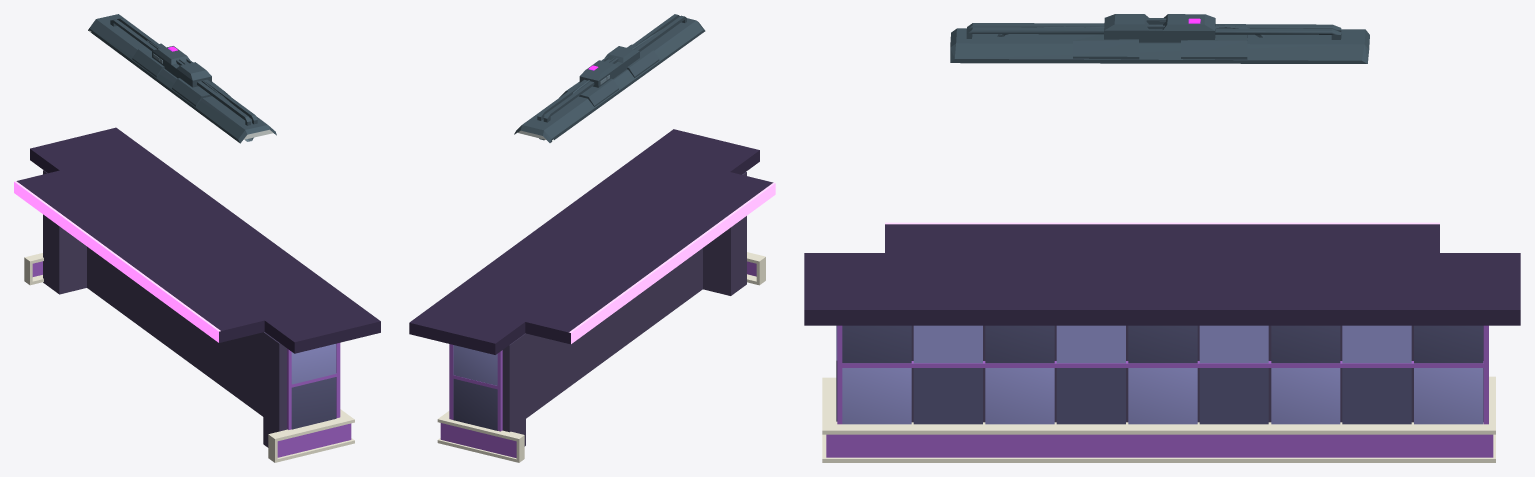
The model's file is Bar.glb.
The picture shows the model from 3 angles, left to right: view 1: azimuth 30°, elevation 25°; view 2: azimuth 150°, elevation 25°; view 3: azimuth 270°, elevation 25°; orthographic projection. The views are drawn at different scales.
Visible parts, largest first — view 1: Bar, BarWall, BarLight, Cube.010, warningFloorSign, Plane.018, Cube.018, Cube.005; view 2: Bar, BarWall, BarLight, Cube.011, warningFloorSign, Plane.018, Cube.021, Cube.005; view 3: Bar, Cube.002, BarLight, Plane.018, Cube.006, Cube.012, warningFloorSign, Cube.017, Cube.005, BarWall.
Boxes of the visible parts, bbox=[...] form: Bar: bbox=[14, 127, 380, 353]; BarWall: bbox=[43, 170, 287, 447]; BarLight: bbox=[88, 14, 276, 143]; Cube.010: bbox=[291, 377, 336, 429]; warningFloorSign: bbox=[24, 253, 354, 462]; Plane.018: bbox=[32, 261, 351, 457]; Cube.018: bbox=[291, 344, 336, 384]; Cube.005: bbox=[287, 343, 340, 429]; Bar: bbox=[409, 129, 775, 354]; BarWall: bbox=[502, 172, 746, 446]; BarLight: bbox=[514, 14, 705, 142]; Cube.011: bbox=[453, 378, 497, 430]; warningFloorSign: bbox=[437, 252, 765, 462]; Plane.018: bbox=[440, 261, 756, 458]; Cube.021: bbox=[453, 345, 497, 385]; Cube.005: bbox=[449, 344, 502, 431]; Bar: bbox=[804, 222, 1520, 325]; Cube.002: bbox=[842, 368, 1483, 424]; BarLight: bbox=[950, 14, 1369, 63]; Plane.018: bbox=[826, 434, 1493, 457]; Cube.006: bbox=[913, 368, 1411, 424]; Cube.012: bbox=[842, 325, 1483, 363]; warningFloorSign: bbox=[822, 376, 1495, 462]; Cube.017: bbox=[913, 325, 1411, 363]; Cube.005: bbox=[837, 325, 1488, 424]; BarWall: bbox=[911, 325, 1483, 422].
Bounding box in the file's own units: 2.41 × 5.36 × 8.37.
